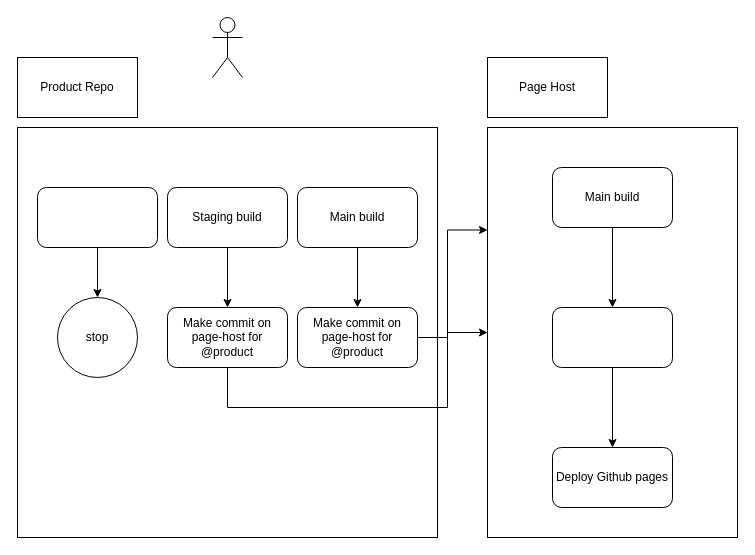
Some shapes in this 755 by 555 pixel diagram are drawn without their labels. The box of each missing label's shape, as (x1, y1, x2, y2) in pixels:
Any other branch: (36, 186, 158, 248)
Dev: (212, 16, 242, 78)
On Commit: (552, 306, 672, 368)
